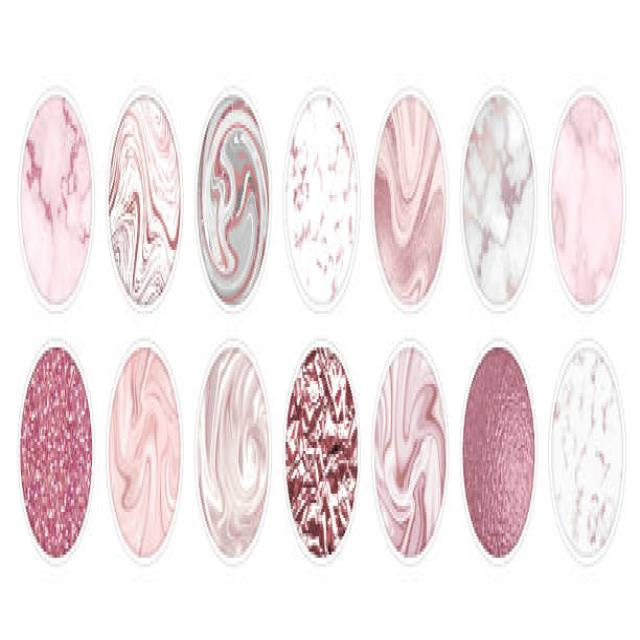Metamorphic: (282, 82, 365, 317), (550, 79, 629, 308), (19, 351, 97, 582), (19, 85, 96, 317), (373, 344, 449, 579), (104, 91, 186, 308), (196, 88, 275, 311), (461, 344, 537, 573), (105, 344, 183, 561), (283, 347, 362, 561), (462, 82, 536, 308), (551, 341, 623, 564), (376, 82, 448, 302), (194, 350, 271, 552)
